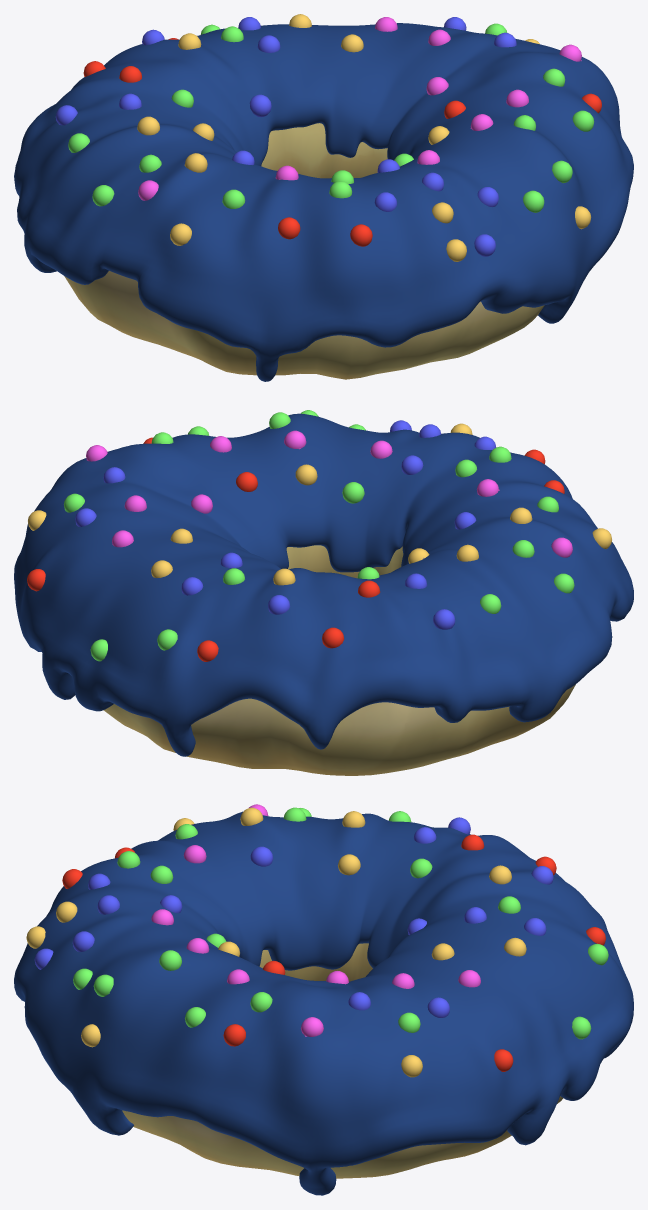
Rendered from donutBallSprigle.glb.
3 renders of one model, top to bottom at view 1: azimuth 30°, elevation 25°; view 2: azimuth 150°, elevation 25°; view 3: azimuth 270°, elevation 25°, orthographic. The views are drawn at different scales.
Visible parts, largest first — view 1: Icing.019, DonutBaked1; view 2: Icing.019, DonutBaked1; view 3: Icing.019, DonutBaked1.
Part boxes in pixels (bbox=[...]): Icing.019: bbox=[14, 14, 633, 381]; DonutBaked1: bbox=[64, 123, 544, 379]; Icing.019: bbox=[14, 410, 633, 756]; DonutBaked1: bbox=[103, 545, 575, 775]; Icing.019: bbox=[14, 804, 633, 1195]; DonutBaked1: bbox=[122, 943, 563, 1178].
Bounding box in the file's own units: 0.3512 × 0.1208 × 0.3374.
Materials: 2 (2 with a texture image).
